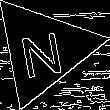N_N: (18, 21, 69, 78)
